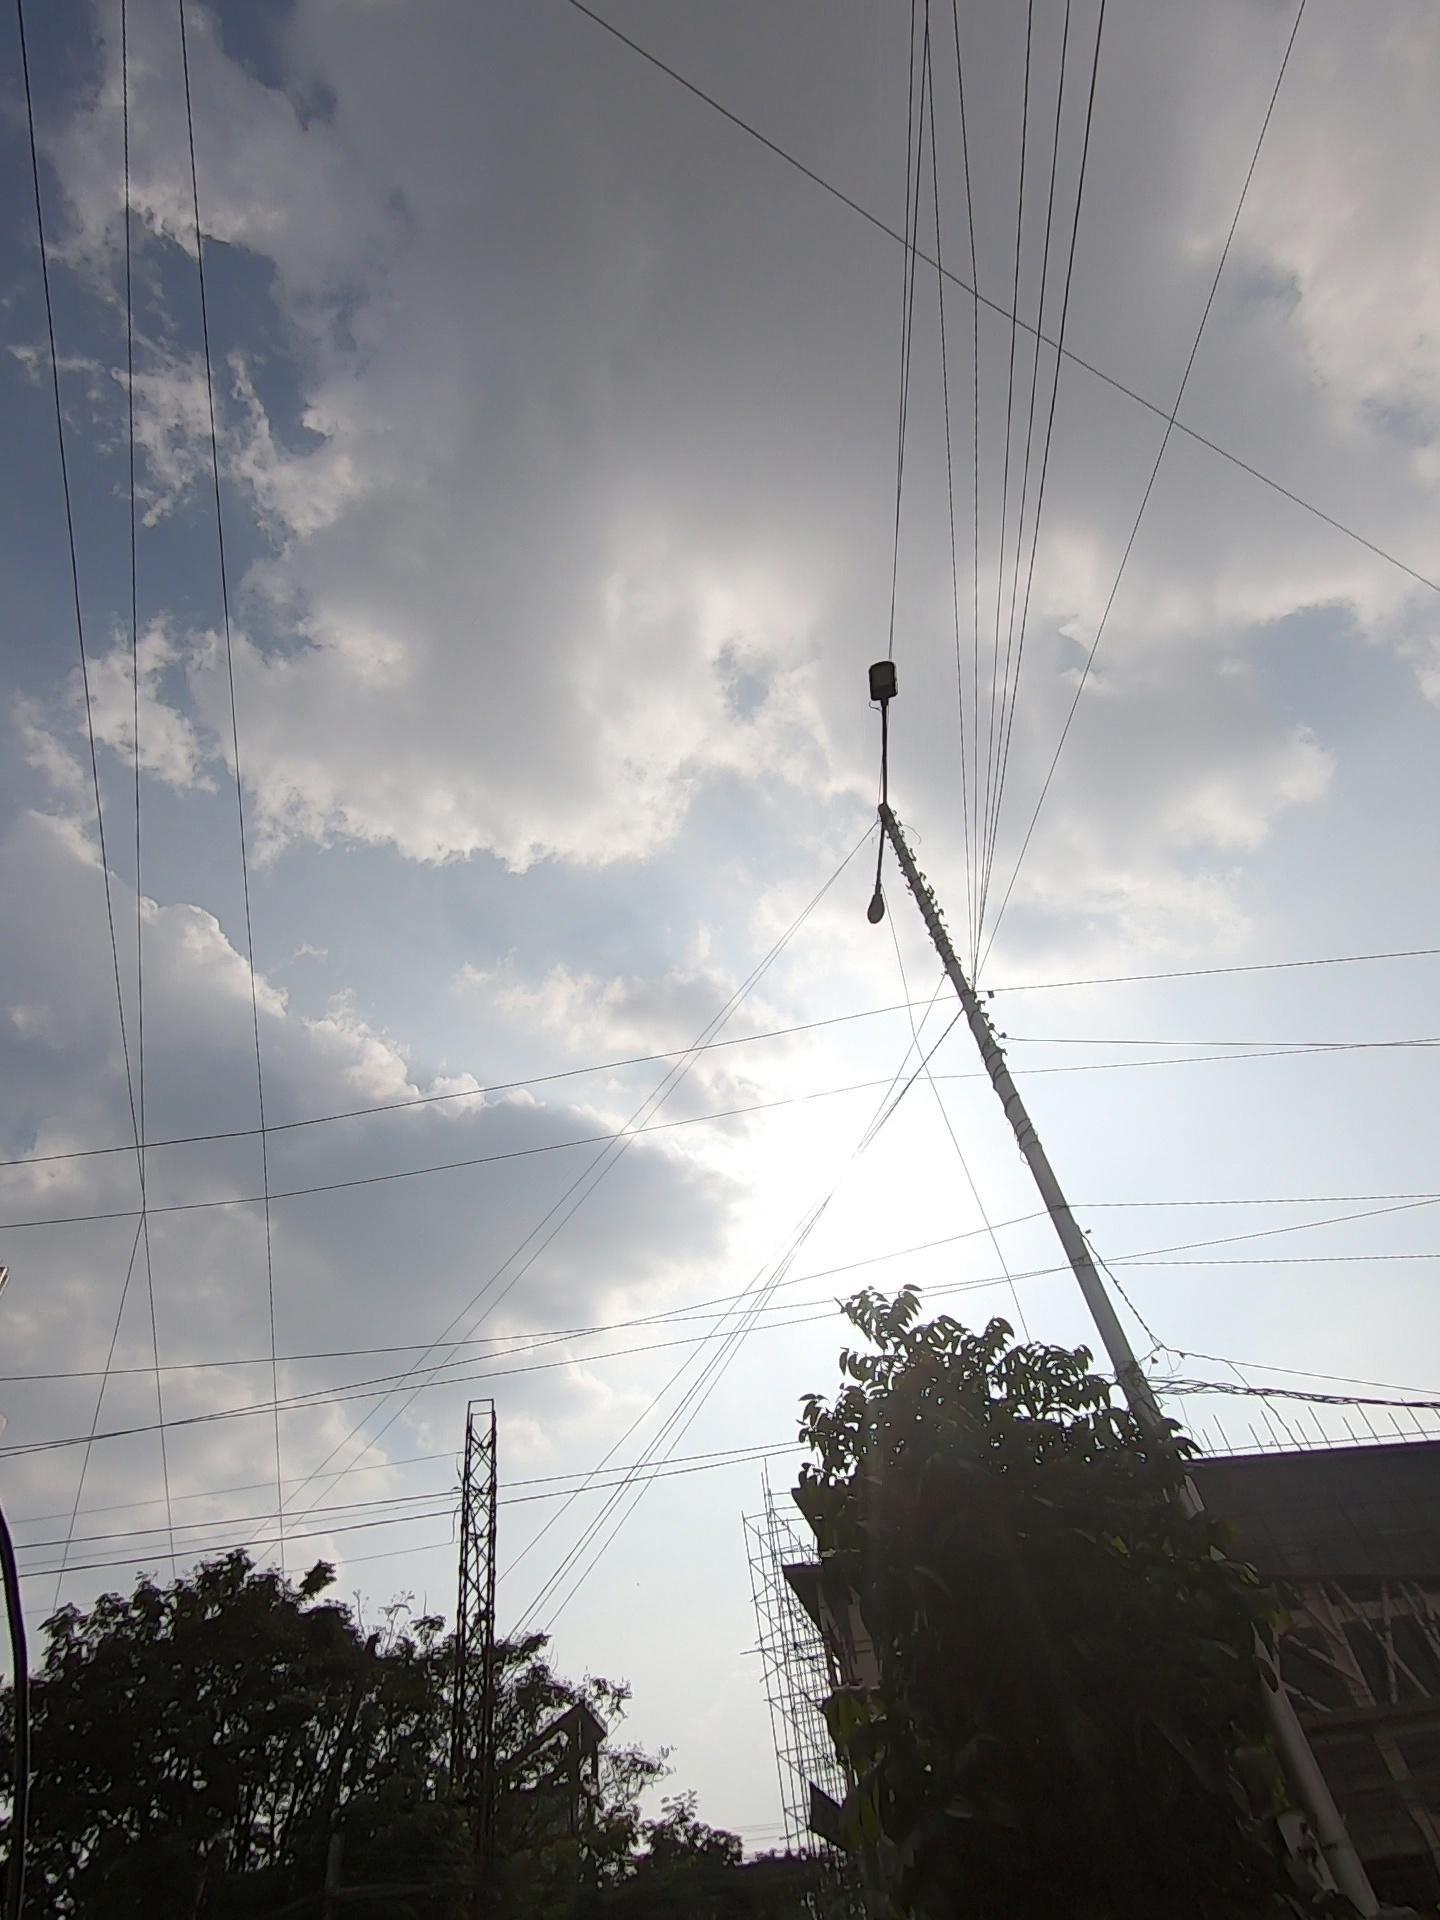off: (720, 546, 971, 980)
